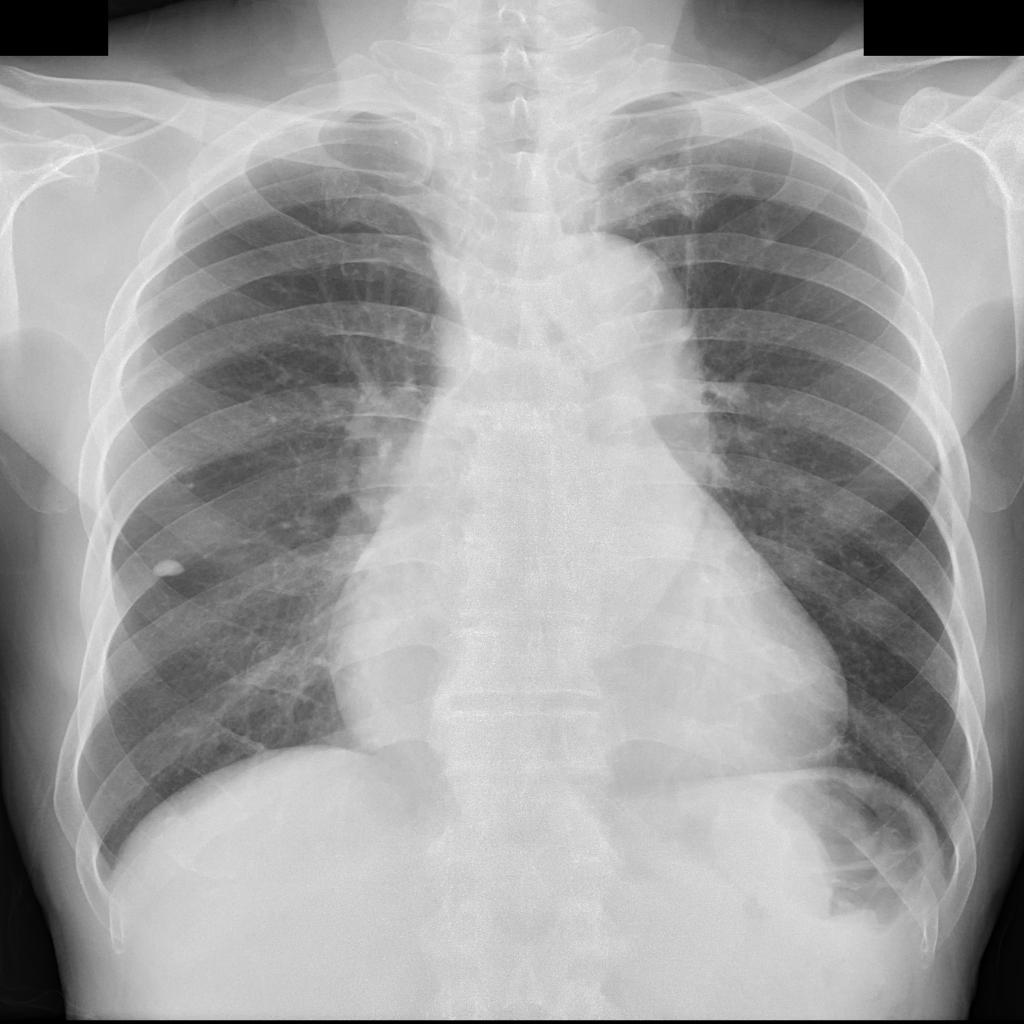Nodule: (154, 557, 182, 578)
